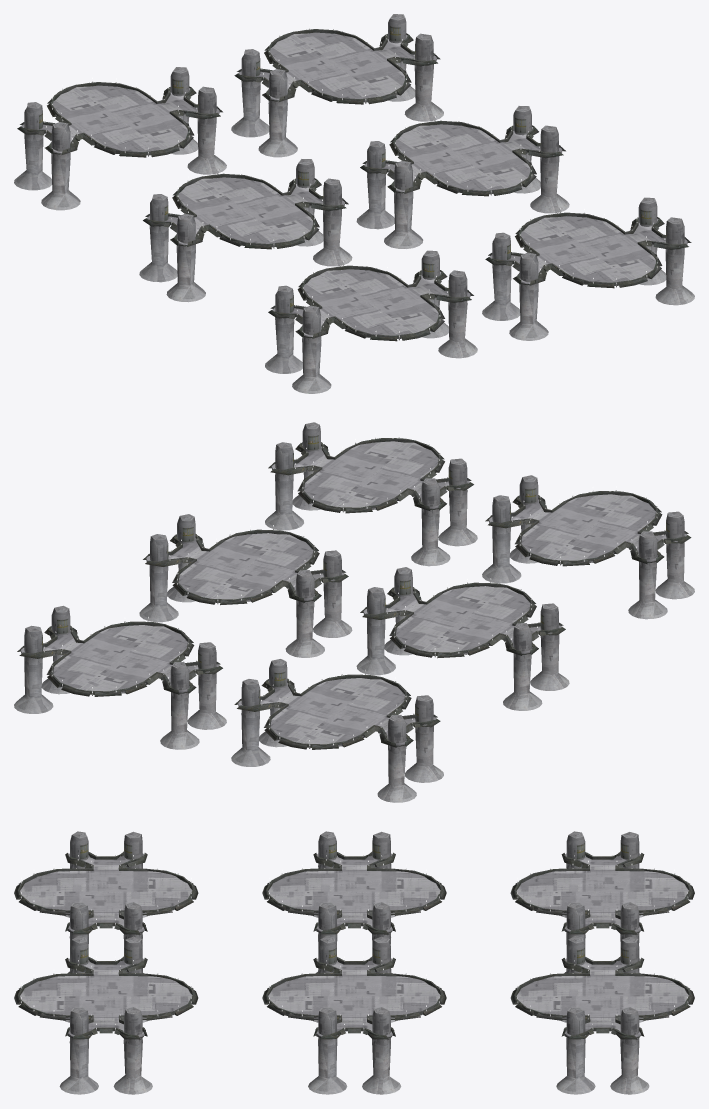
File: landPad6_mesh_lores.DAE
The picture shows the model from 3 angles, top to bottom: view 1: azimuth 30°, elevation 25°; view 2: azimuth 150°, elevation 25°; view 3: azimuth 270°, elevation 25°; orthographic projection.
Visible parts, largest first — view 1: Low_LiftTower01 (×3), Low_LiftTower05 (×3), Low_LiftTower04 (×3), Low_LiftTower (×3), Low_LiftTower02 (×3), Low_LiftTower03 (×3), Low_PadWallOuter, Low_PadWallOuter02, Low_PadWallOuter01, Low_PadWallOuter03, Low_PadWallOuter05, Low_PadWallOuter04; view 2: Low_LiftTower04 (×3), Low_LiftTower05 (×3), Low_LiftTower02 (×3), Low_LiftTower (×3), Low_LiftTower01 (×3), Low_LiftTower03 (×3), Low_PadWallOuter05, Low_PadWallOuter04, Low_PadWallOuter, Low_PadWallOuter02, Low_PadWallOuter01, Low_PadWallOuter03; view 3: Low_LiftTower (×3), Low_LiftTower02 (×3), Low_LiftTower05 (×3), Low_LiftTower01 (×3), Low_LiftTower03 (×3), Low_LiftTower04 (×3), Low_PadWallOuter04, Low_PadWallOuter, Low_PadWallOuter05, Low_PadWallOuter01, Low_PadWallOuter03, Low_PadWallOuter02.
Boxes of the visible parts, x1,y1,x2,y2 form: Low_LiftTower01 (×3): (14,67,226,210); Low_LiftTower05 (×3): (482,197,694,340); Low_LiftTower04 (×3): (265,250,477,393); Low_LiftTower (×3): (231,14,443,157); Low_LiftTower02 (×3): (356,106,569,248); Low_LiftTower03 (×3): (139,159,352,302); Low_PadWallOuter: (234,29,440,104); Low_PadWallOuter02: (143,174,348,249); Low_PadWallOuter01: (17,82,222,157); Low_PadWallOuter03: (360,121,565,196); Low_PadWallOuter05: (485,213,691,288); Low_PadWallOuter04: (268,266,473,341); Low_LiftTower04 (×3): (482,475,694,619); Low_LiftTower05 (×3): (265,422,477,566); Low_LiftTower02 (×3): (139,514,352,657); Low_LiftTower (×3): (14,605,226,749); Low_LiftTower01 (×3): (231,659,443,802); Low_LiftTower03 (×3): (356,567,569,710); Low_PadWallOuter05: (268,438,473,513); Low_PadWallOuter04: (485,491,691,566); Low_PadWallOuter: (17,621,222,696); Low_PadWallOuter02: (360,583,565,658); Low_PadWallOuter01: (234,674,440,749); Low_PadWallOuter03: (143,530,348,605); Low_LiftTower (×3): (514,936,690,1094); Low_LiftTower02 (×3): (266,936,442,1094); Low_LiftTower05 (×3): (18,936,194,1094); Low_LiftTower01 (×3): (514,831,690,973); Low_LiftTower03 (×3): (266,831,442,973); Low_LiftTower04 (×3): (18,831,194,973); Low_PadWallOuter04: (14,853,198,934); Low_PadWallOuter: (510,957,694,1039); Low_PadWallOuter05: (14,958,198,1039); Low_PadWallOuter01: (510,853,694,934); Low_PadWallOuter03: (262,957,446,1039); Low_PadWallOuter02: (262,852,446,934).
Bounding box in the file's own units: 550 × 102 × 823.
